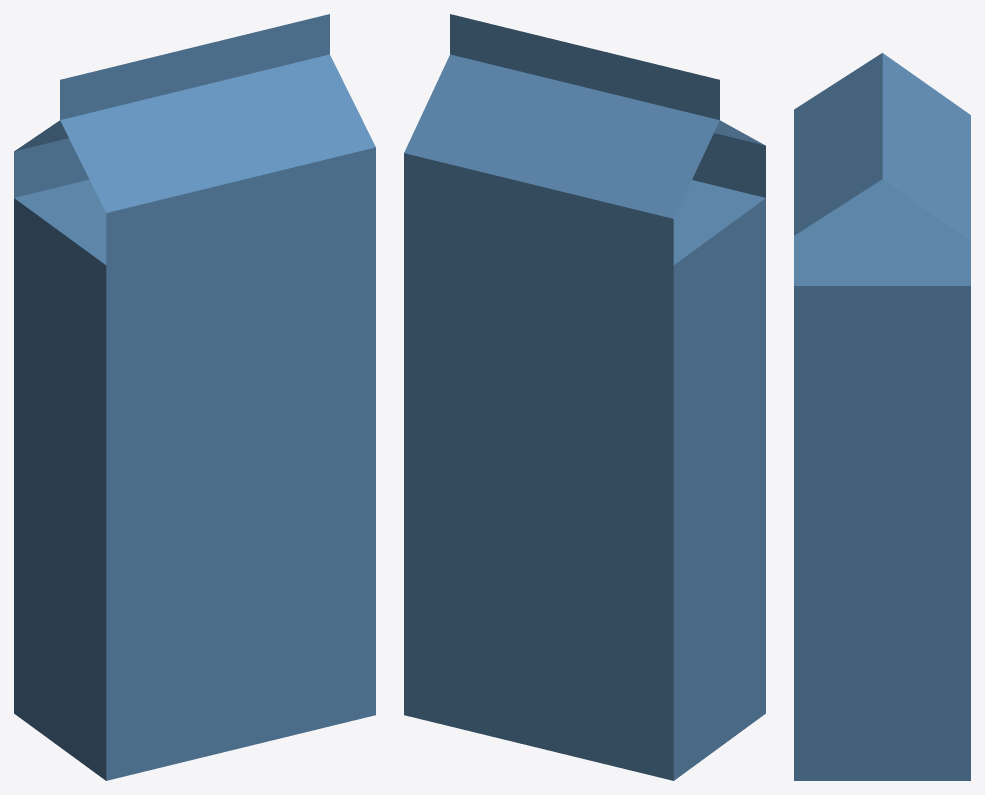
Rendered from Brick.fbx.
3 renders of one model, left to right at view 1: azimuth 30°, elevation 25°; view 2: azimuth 150°, elevation 25°; view 3: azimuth 270°, elevation 25°, orthographic. The views are drawn at different scales.
Parts seen in each view (by area): view 1: Cartón de leche; view 2: Cartón de leche; view 3: Cartón de leche.
Part boxes in pixels (left/top/right/bottom): Cartón de leche: left=14, top=14, right=375, bottom=780; Cartón de leche: left=404, top=14, right=765, bottom=780; Cartón de leche: left=794, top=53, right=970, bottom=780.
Size of the model in its own units: 77.29 by 183 by 45.73.
